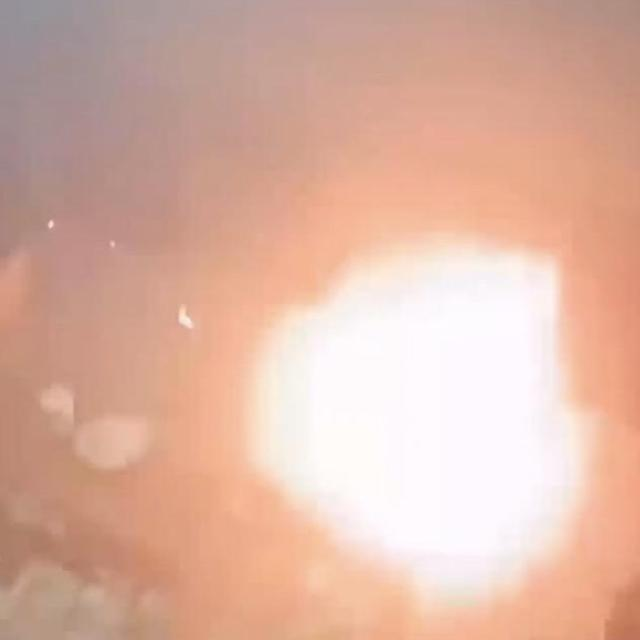smoke: (251, 210, 620, 640)
